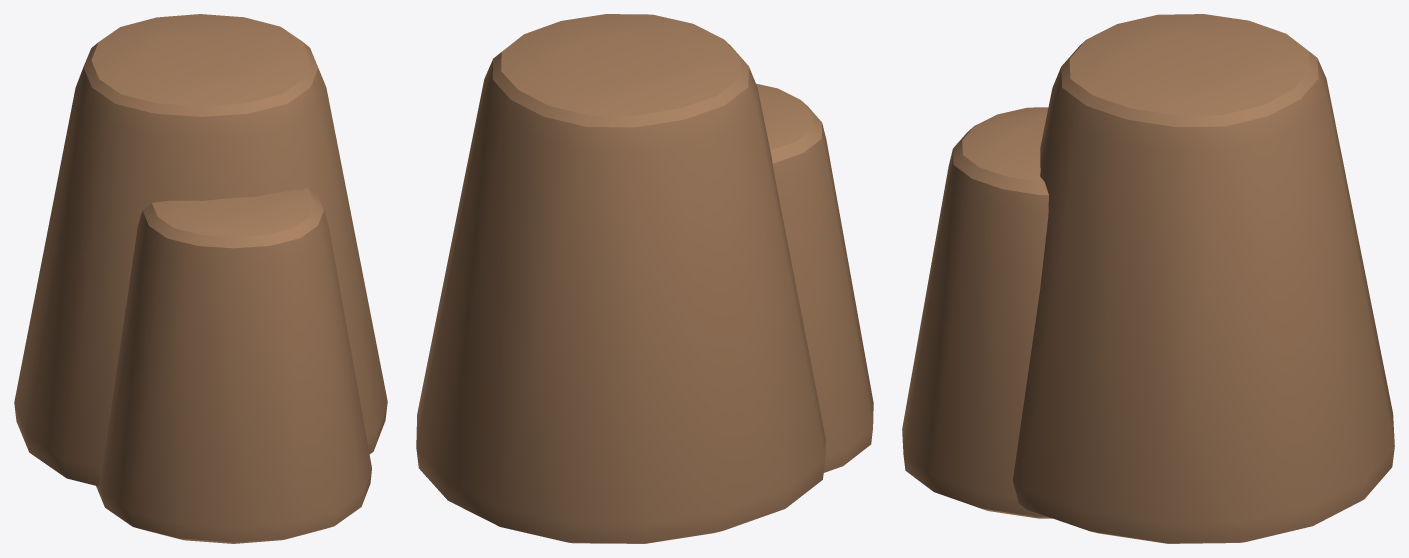
The model's file is RockPlatforms_1_002.gltf.
3 renders of one model, left to right at view 1: azimuth 30°, elevation 25°; view 2: azimuth 150°, elevation 25°; view 3: azimuth 270°, elevation 25°, orthographic. The views are drawn at different scales.
Parts seen in each view (by area): view 1: RockPlatforms_1.002; view 2: RockPlatforms_1.002; view 3: RockPlatforms_1.002.
Part boxes in pixels (x1,y1,x2,y2): RockPlatforms_1.002: [14, 14, 387, 543]; RockPlatforms_1.002: [416, 14, 873, 543]; RockPlatforms_1.002: [902, 14, 1394, 543].
Size of the model in its own units: 2.62 by 2.99 by 3.15.
